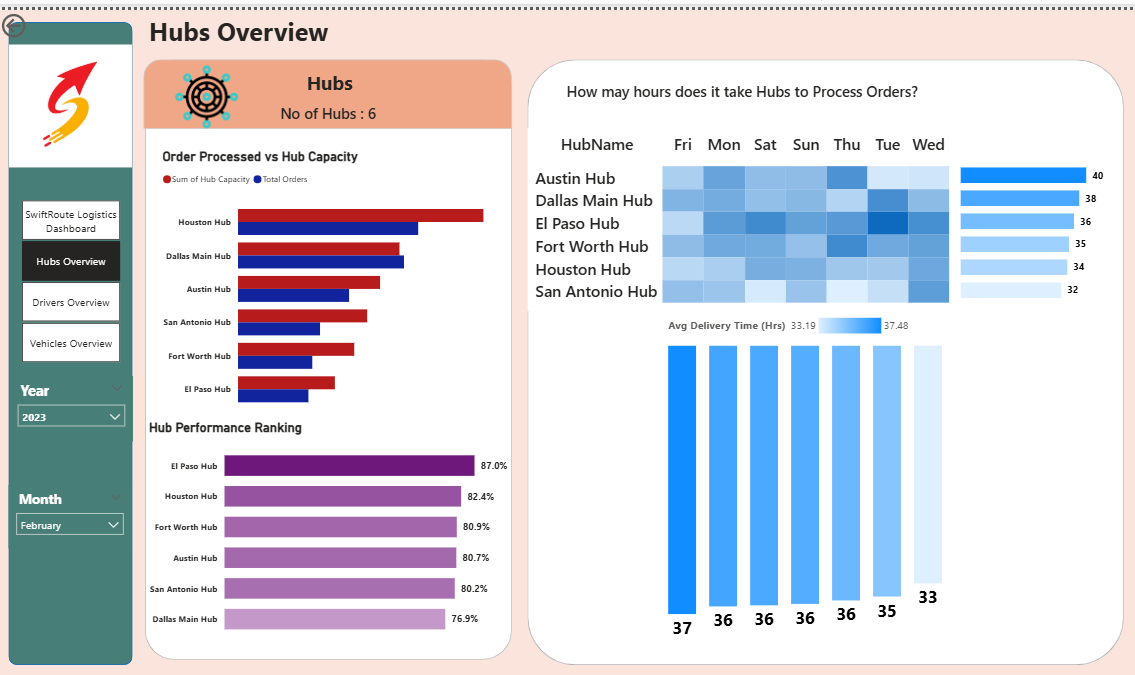

The page's visual inventory and layout, read from the dashboard file:
{"tool":"powerbi","page":{"name":"Hubs Overview","canvas":[1450,850],"ordinal":1},"visuals":[{"type":"shape","box":[13.6,15.3,158.1,819.4],"z":0},{"type":"textbox","box":[187,0,504.9,62.9],"z":1000},{"type":"slicer","fields":{"Values":["Date Table.Year"]},"box":[15.3,465.8,156.4,83.3],"z":2000},{"type":"slicer","fields":{"Values":["Date Table.Month"]},"box":[13.6,606.9,156.4,79.9],"z":3000},{"type":"textbox","box":[261.7,63.3,283.3,60],"z":4000},{"type":"image","box":[13.3,43.3,158.3,156.7],"z":5000},{"type":"shape","box":[674.9,62.9,759.9,771.8],"z":6000},{"type":"actionButton","box":[0,0,100,40],"z":7000},{"type":"shape","box":[187,62.9,467.5,765],"z":8000},{"type":"shape","box":[185.3,62.9,469.2,88.4],"z":9000},{"type":"cardVisual","fields":{"Data":["Hubs.No of Hubs"]},"box":[278.8,102,283.9,59.5],"z":10000},{"type":"clusteredBarChart","title":"Order Processed vs Hub Capacity ","fields":{"Category":["Hubs.HubName"],"Y":["Sum(Hubs.Hub Capacity)","Orders.Total Orders"]},"box":[204,175.1,435.2,346.8],"z":11000},{"type":"clusteredBarChart","title":"Hub Performance Ranking","fields":{"Category":["Hubs.HubName"],"Y":["Orders.On Time Delivery Rate"]},"box":[187,521.9,467.5,289],"z":12000},{"type":"textbox","box":[300.9,71.4,244.8,52.7],"z":13000},{"type":"pivotTable","fields":{"Rows":["Hubs.HubName"],"Columns":["Date Table.Day"],"Values":["Orders.Avg Delivery Time (Hrs)"]},"box":[674.9,151.3,586.5,232.9],"z":14000},{"type":"columnChart","fields":{"Category":["Date Table.Day"],"Y":["Orders.Avg Delivery Time (Hrs)"]},"box":[848.3,384.2,360.4,426.7],"z":15000},{"type":"barChart","fields":{"Category":["Hubs.HubName"],"Y":["Orders.Avg Delivery Time (Hrs)"]},"box":[1222.3,187,227.8,185.3],"z":16000},{"type":"cardVisual","fields":{"Data":["Hubs.Hub Title"]},"box":[674.9,73.1,547.4,59.5],"z":17000},{"type":"pageNavigator","box":[30.6,243.1,125.8,209.1],"z":18000},{"type":"image","box":[215.9,71.4,100.3,79.9],"z":19000}]}

Visuals, with their boxes on the page's 1450x850 design canvas (x1, y1, x2, y2). These are canvas units, not pixel positions in the 1135x675 screenshot, which may show the page scaled, cropped or inside an application window:
shape: pyautogui.locateOnScreen(14, 15, 172, 835)
textbox: pyautogui.locateOnScreen(187, 0, 692, 63)
slicer - Date Table.Year: pyautogui.locateOnScreen(15, 466, 172, 549)
slicer - Date Table.Month: pyautogui.locateOnScreen(14, 607, 170, 687)
textbox: pyautogui.locateOnScreen(262, 63, 545, 123)
image: pyautogui.locateOnScreen(13, 43, 172, 200)
shape: pyautogui.locateOnScreen(675, 63, 1435, 835)
actionButton: pyautogui.locateOnScreen(0, 0, 100, 40)
shape: pyautogui.locateOnScreen(187, 63, 654, 828)
shape: pyautogui.locateOnScreen(185, 63, 654, 151)
cardVisual - Hubs.No of Hubs: pyautogui.locateOnScreen(279, 102, 563, 162)
"Order Processed vs Hub Capacity " clusteredBarChart: pyautogui.locateOnScreen(204, 175, 639, 522)
"Hub Performance Ranking" clusteredBarChart: pyautogui.locateOnScreen(187, 522, 654, 811)
textbox: pyautogui.locateOnScreen(301, 71, 546, 124)
pivotTable - Hubs.HubName x Date Table.Day: pyautogui.locateOnScreen(675, 151, 1261, 384)
columnChart - Date Table.Day x Orders.Avg Delivery Time (Hrs): pyautogui.locateOnScreen(848, 384, 1209, 811)
barChart - Hubs.HubName x Orders.Avg Delivery Time (Hrs): pyautogui.locateOnScreen(1222, 187, 1450, 372)
cardVisual - Hubs.Hub Title: pyautogui.locateOnScreen(675, 73, 1222, 133)
pageNavigator: pyautogui.locateOnScreen(31, 243, 156, 452)
image: pyautogui.locateOnScreen(216, 71, 316, 151)
